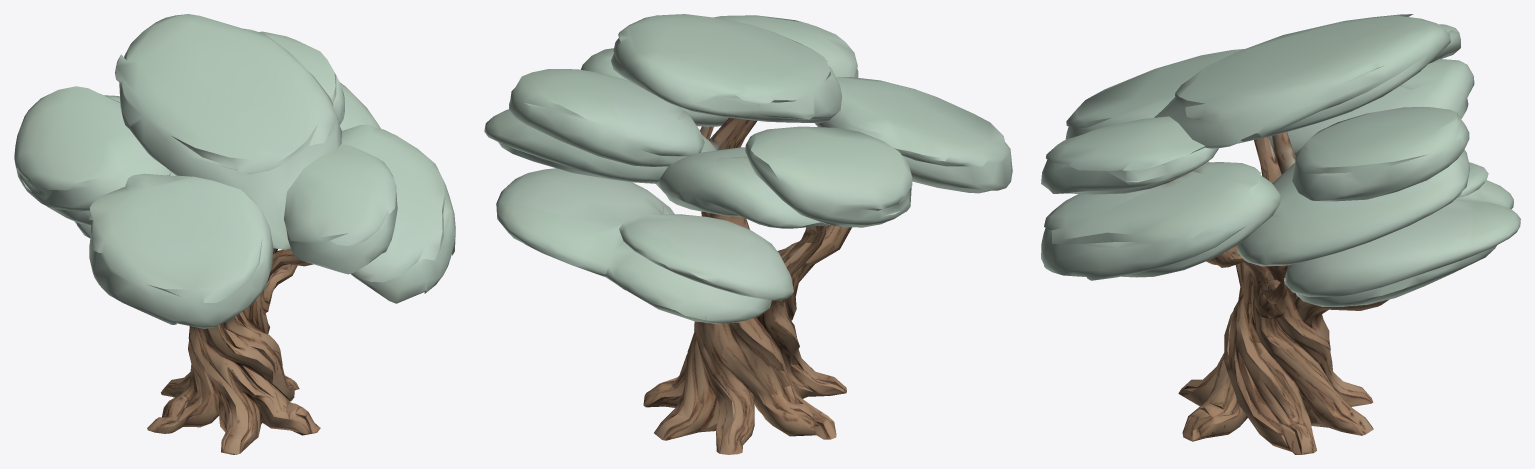
The model's file is olive_tree.glb.
The picture shows the model from 3 angles, left to right: view 1: azimuth 30°, elevation 25°; view 2: azimuth 150°, elevation 25°; view 3: azimuth 270°, elevation 25°; orthographic projection. The views are drawn at different scales.
Visible parts, largest first — view 1: olive_tree; view 2: olive_tree; view 3: olive_tree.
Part boxes in pixels (x1,y1,x2,y2): olive_tree: (14,14,455,454); olive_tree: (484,14,1012,454); olive_tree: (1041,14,1520,454).
Bounding box in the file's own units: 5.25 × 5 × 5.54.
1 material, 1 textured.
